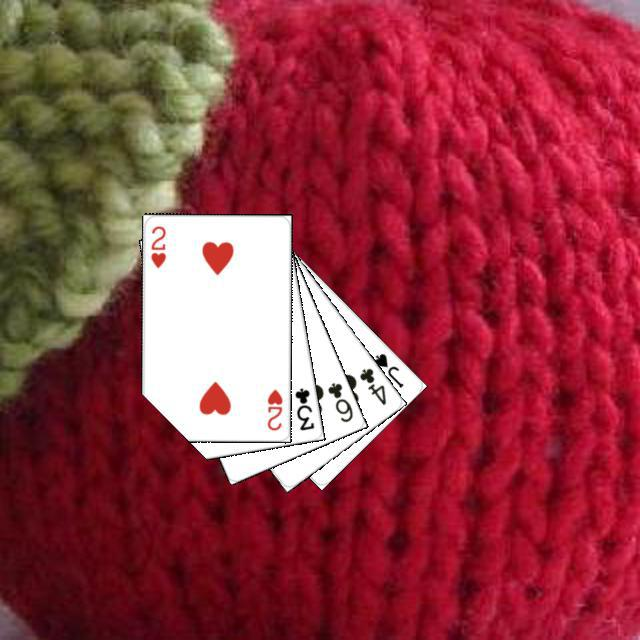2h: (262, 384, 284, 432), (146, 221, 167, 270)
3c: (290, 383, 316, 432)
4c: (354, 363, 388, 407)
6c: (323, 378, 355, 424)
Js: (369, 348, 405, 389)
